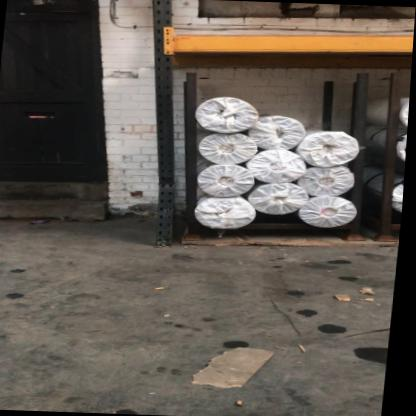vertical_damage: (149, 159, 188, 208)
